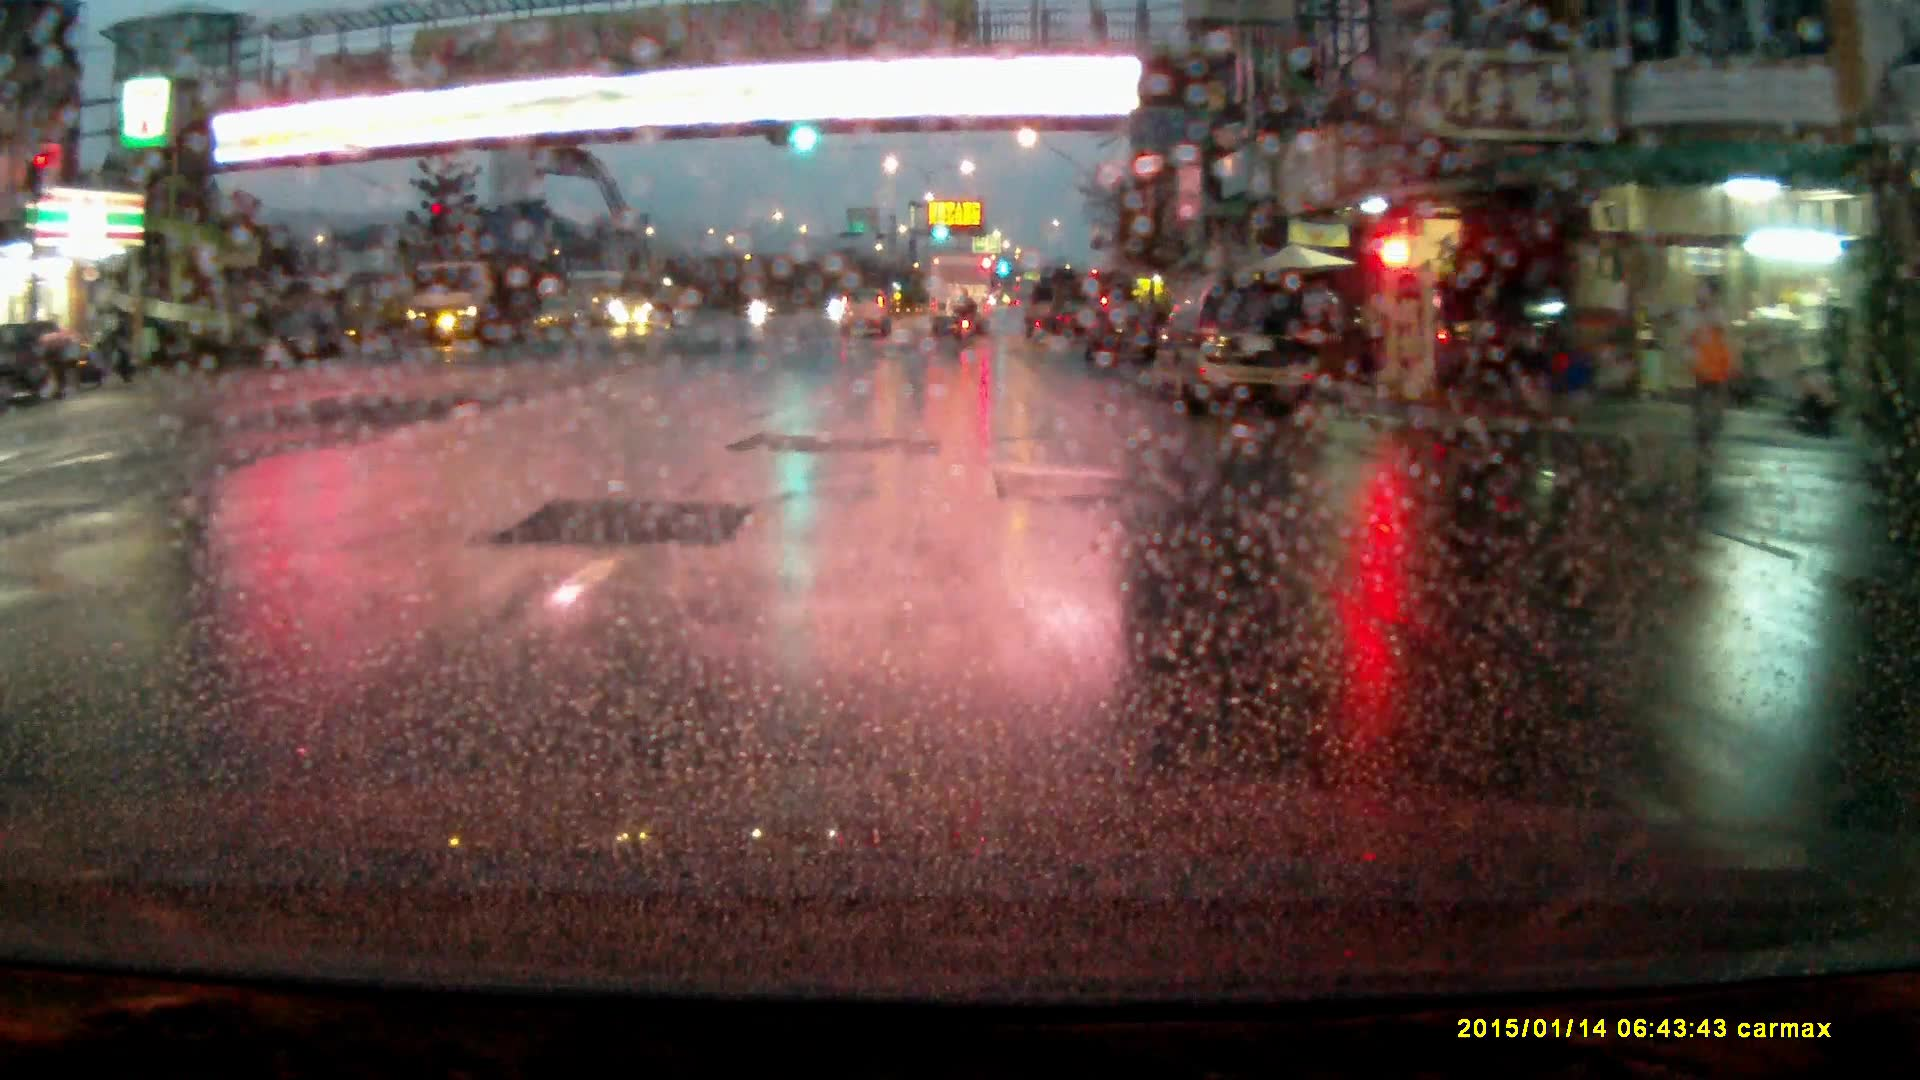pedestrian: (1670, 269, 1750, 473)
rider: (952, 292, 978, 352)
vehicle: (1155, 284, 1326, 414), (1441, 286, 1573, 391), (403, 260, 531, 352), (1, 322, 105, 411), (929, 258, 992, 335), (1085, 309, 1161, 368), (614, 282, 684, 336), (840, 294, 895, 343)
